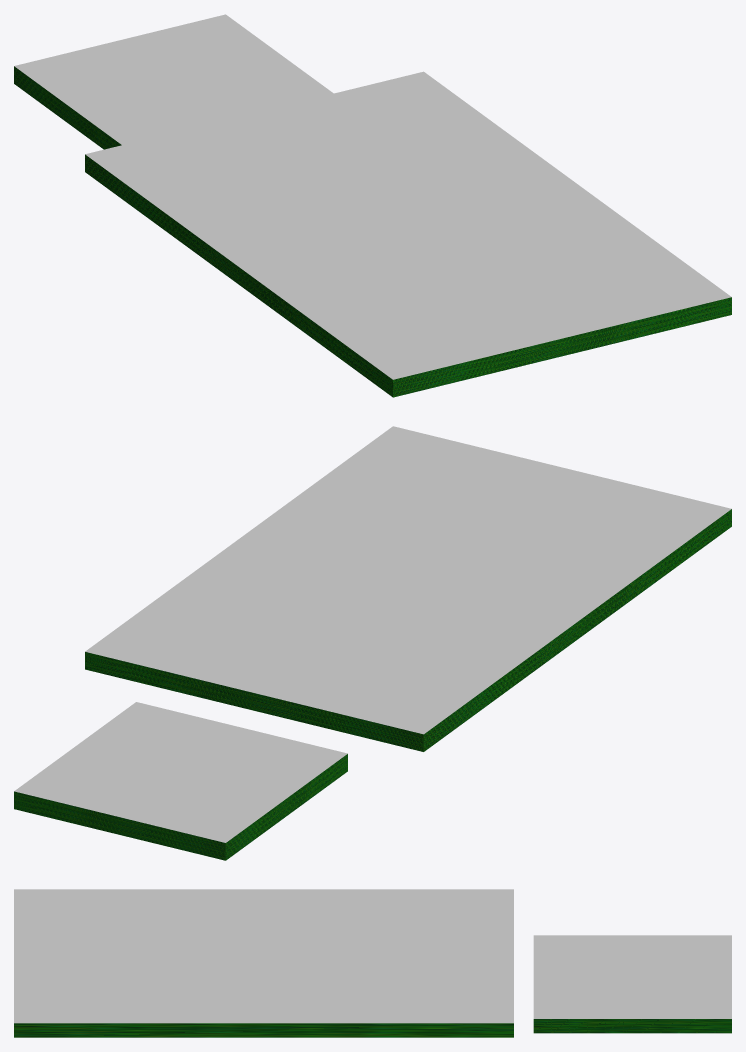
The model's file is Dirt1.fbx.
3 views of the same model, one above another, from view 1: azimuth 30°, elevation 25°; view 2: azimuth 150°, elevation 25°; view 3: azimuth 270°, elevation 25° (orthographic). The views are drawn at different scales.
Parts seen in each view (by area): view 1: Ground__2_, Ground_1; view 2: Ground__2_, Ground_1; view 3: Ground__2_, Ground_1.
Boxes of the visible parts, x1,y1,x2,y2 form: Ground__2_: [85, 71, 731, 397]; Ground_1: [14, 14, 333, 149]; Ground__2_: [85, 426, 731, 751]; Ground_1: [14, 702, 347, 860]; Ground__2_: [14, 889, 513, 1037]; Ground_1: [533, 935, 731, 1033].
Bounding box in the file's own units: 4000 × 490 × 9049.
